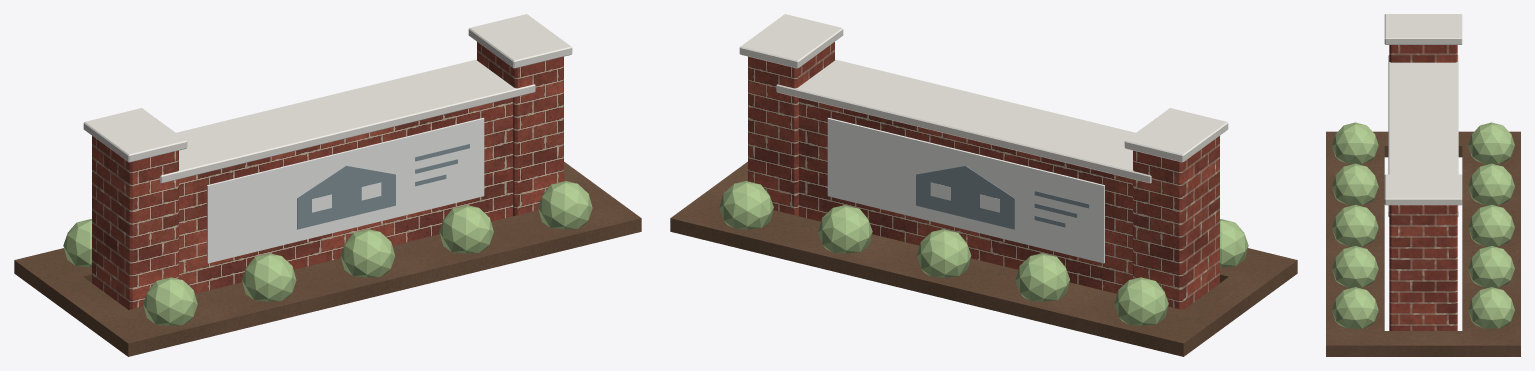
The model's file is monument.glb.
3 renders of one model, left to right at view 1: azimuth 30°, elevation 25°; view 2: azimuth 150°, elevation 25°; view 3: azimuth 270°, elevation 25°, orthographic. The views are drawn at different scales.
Visible parts, largest first — view 1: monument_brick, monument_mulch, monument_coping, monument_paint_w, monument_leaf2, monument_door; view 2: monument_brick, monument_mulch, monument_coping, monument_paint_w, monument_leaf2, monument_door; view 3: monument_leaf2, monument_mulch, monument_coping, monument_brick.
Part boxes in pixels (x1,y1,x2,y2): monument_brick: (92, 42, 563, 309); monument_mulch: (14, 161, 641, 356); monument_coping: (83, 14, 572, 183); monument_paint_w: (207, 118, 484, 263); monument_leaf2: (63, 181, 592, 325); monument_door: (297, 144, 469, 229); monument_brick: (748, 42, 1219, 309); monument_mulch: (670, 161, 1297, 356); monument_coping: (739, 14, 1228, 183); monument_paint_w: (827, 118, 1104, 263); monument_leaf2: (719, 181, 1248, 325); monument_door: (916, 165, 1089, 229); monument_leaf2: (1332, 122, 1514, 328); monument_mulch: (1326, 131, 1520, 356); monument_coping: (1384, 14, 1462, 216); monument_brick: (1389, 45, 1457, 330).
Bounding box in the file's own units: 5.2 × 1.68 × 2.
Materials: 6 (2 with a texture image).
